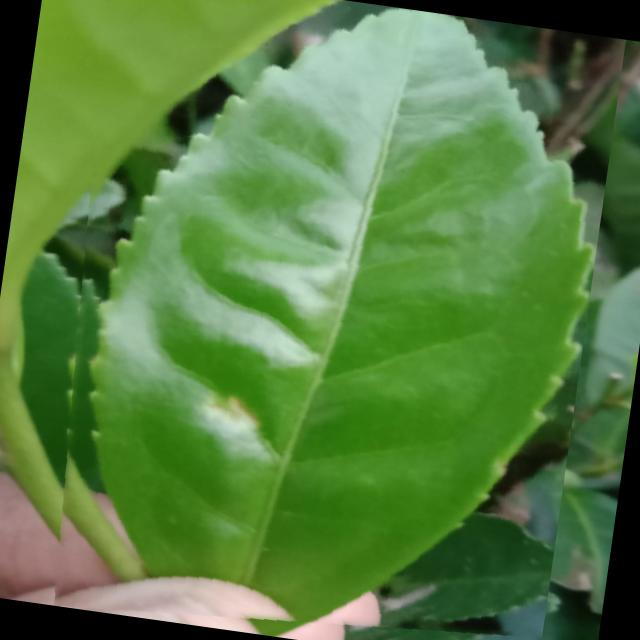Category C(4-7 days): (21, 0, 626, 640)
